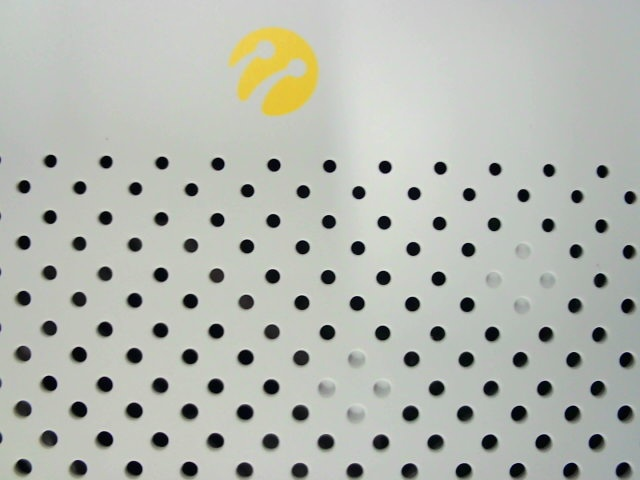AV_H3600Yellow: (223, 19, 331, 123)
